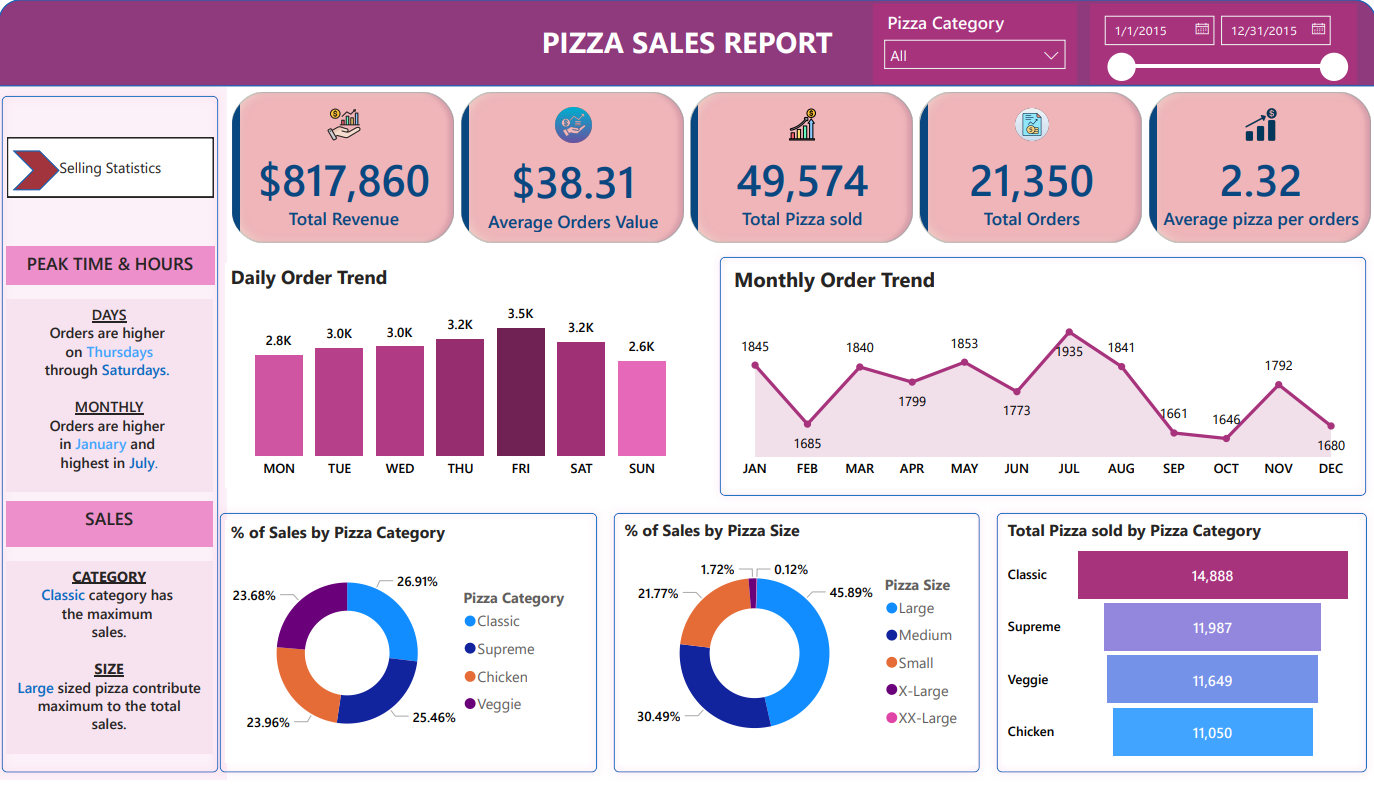

The dashboard page shown, as its layout file describes it:
{"tool":"powerbi","page":{"name":"Home","canvas":[1280,720],"ordinal":0},"visuals":[{"type":"shape","box":[0,81.7,215,638.3],"z":0},{"type":"cardVisual","fields":{"Data":["data_analysis_project copied_pizza_sale.Total Revenue","data_analysis_project copied_pizza_sale.Average Orders Value","data_analysis_project copied_pizza_sale.Total Pizza sold","data_analysis_project copied_pizza_sale.Total Orders","data_analysis_project copied_pizza_sale.Average pizza per orders"]},"box":[215,81.7,1058.3,148.3],"z":1000},{"type":"shape","box":[4.9,0,1267.9,81],"z":2000},{"type":"textbox","box":[480.9,16.2,315.7,47],"z":3000},{"type":"columnChart","title":"Daily Order Trend","fields":{"Category":["data_analysis_project copied_pizza_sale.Day_initial"],"Y":["data_analysis_project copied_pizza_sale.Total Orders"]},"box":[214.3,244.3,432.9,207.1],"z":4000},{"type":"shape","box":[661.4,230,610,235.7],"z":5000},{"type":"areaChart","title":"Monthly Order Trend","fields":{"Category":["data_analysis_project copied_pizza_sale.Month Initial"],"Y":["data_analysis_project copied_pizza_sale.Total Orders"]},"box":[677.1,245.7,578.6,204.3],"z":6000},{"type":"shape","box":[201.4,465.7,362.9,254.3],"z":7000},{"type":"shape","box":[564.3,465.7,351.4,254.3],"z":8000},{"type":"shape","box":[915.7,465.7,355.7,254.3],"z":9000},{"type":"donutChart","title":"% of Sales by Pizza Category","fields":{"Category":["data_analysis_project copied_pizza_sale.pizza_category"],"Y":["data_analysis_project copied_pizza_sale.Total Revenue"]},"box":[214.3,481.4,332.9,222.9],"z":10000},{"type":"donutChart","title":"% of Sales by Pizza Size","fields":{"Y":["data_analysis_project copied_pizza_sale.Total Revenue"],"Category":["data_analysis_project copied_pizza_sale.pizza_size"]},"box":[575.7,478.6,328.6,227.1],"z":11000},{"type":"funnel","title":"Total Pizza sold by Pizza Category","fields":{"Category":["data_analysis_project copied_pizza_sale.pizza_category"],"Y":["data_analysis_project copied_pizza_sale.Total Pizza sold"]},"box":[928.6,478.6,327.1,227.1],"z":12000},{"type":"textbox","box":[11.7,228.3,191.7,35],"z":13000},{"type":"textbox","box":[11.7,463.3,190,41.7],"z":14000},{"type":"textbox","box":[11.7,276.7,190,176.7],"z":15000},{"type":"textbox","box":[11.7,518.3,190,176.7],"z":16000},{"type":"slicer","fields":{"Values":["data_analysis_project copied_pizza_sale.pizza_category"]},"box":[810,5,186.7,73.3],"z":17000},{"type":"slicer","fields":{"Values":["data_analysis_project copied_pizza_sale.order_date"]},"box":[1010,5,245,73.3],"z":18000},{"type":"pageNavigator","box":[13.3,128.3,190,55],"z":20000},{"type":"shape","box":[18.3,140,43.3,36.7],"z":20001}]}

Visuals, with their boxes in screenshot pixels (x1, y1, x2, y2), scaled from the page's 1280x720 canvas onto the 1374x785 screenshot:
shape: (x1=0, y1=89, x2=231, y2=784)
cardVisual - data_analysis_project copied_pizza_sale.Total Revenue x data_analysis_project copied_pizza_sale.Average Orders Value: (x1=231, y1=89, x2=1367, y2=251)
shape: (x1=5, y1=0, x2=1366, y2=88)
textbox: (x1=516, y1=18, x2=855, y2=69)
"Daily Order Trend" columnChart: (x1=230, y1=266, x2=695, y2=492)
shape: (x1=710, y1=251, x2=1365, y2=508)
"Monthly Order Trend" areaChart: (x1=727, y1=268, x2=1348, y2=491)
shape: (x1=216, y1=508, x2=606, y2=784)
shape: (x1=606, y1=508, x2=983, y2=784)
shape: (x1=983, y1=508, x2=1365, y2=784)
"% of Sales by Pizza Category" donutChart: (x1=230, y1=525, x2=587, y2=768)
"% of Sales by Pizza Size" donutChart: (x1=618, y1=522, x2=971, y2=769)
"Total Pizza sold by Pizza Category" funnel: (x1=997, y1=522, x2=1348, y2=769)
textbox: (x1=13, y1=249, x2=218, y2=287)
textbox: (x1=13, y1=505, x2=217, y2=551)
textbox: (x1=13, y1=302, x2=217, y2=494)
textbox: (x1=13, y1=565, x2=217, y2=758)
slicer - data_analysis_project copied_pizza_sale.pizza_category: (x1=869, y1=5, x2=1070, y2=85)
slicer - data_analysis_project copied_pizza_sale.order_date: (x1=1084, y1=5, x2=1347, y2=85)
pageNavigator: (x1=14, y1=140, x2=218, y2=200)
shape: (x1=20, y1=153, x2=66, y2=193)
